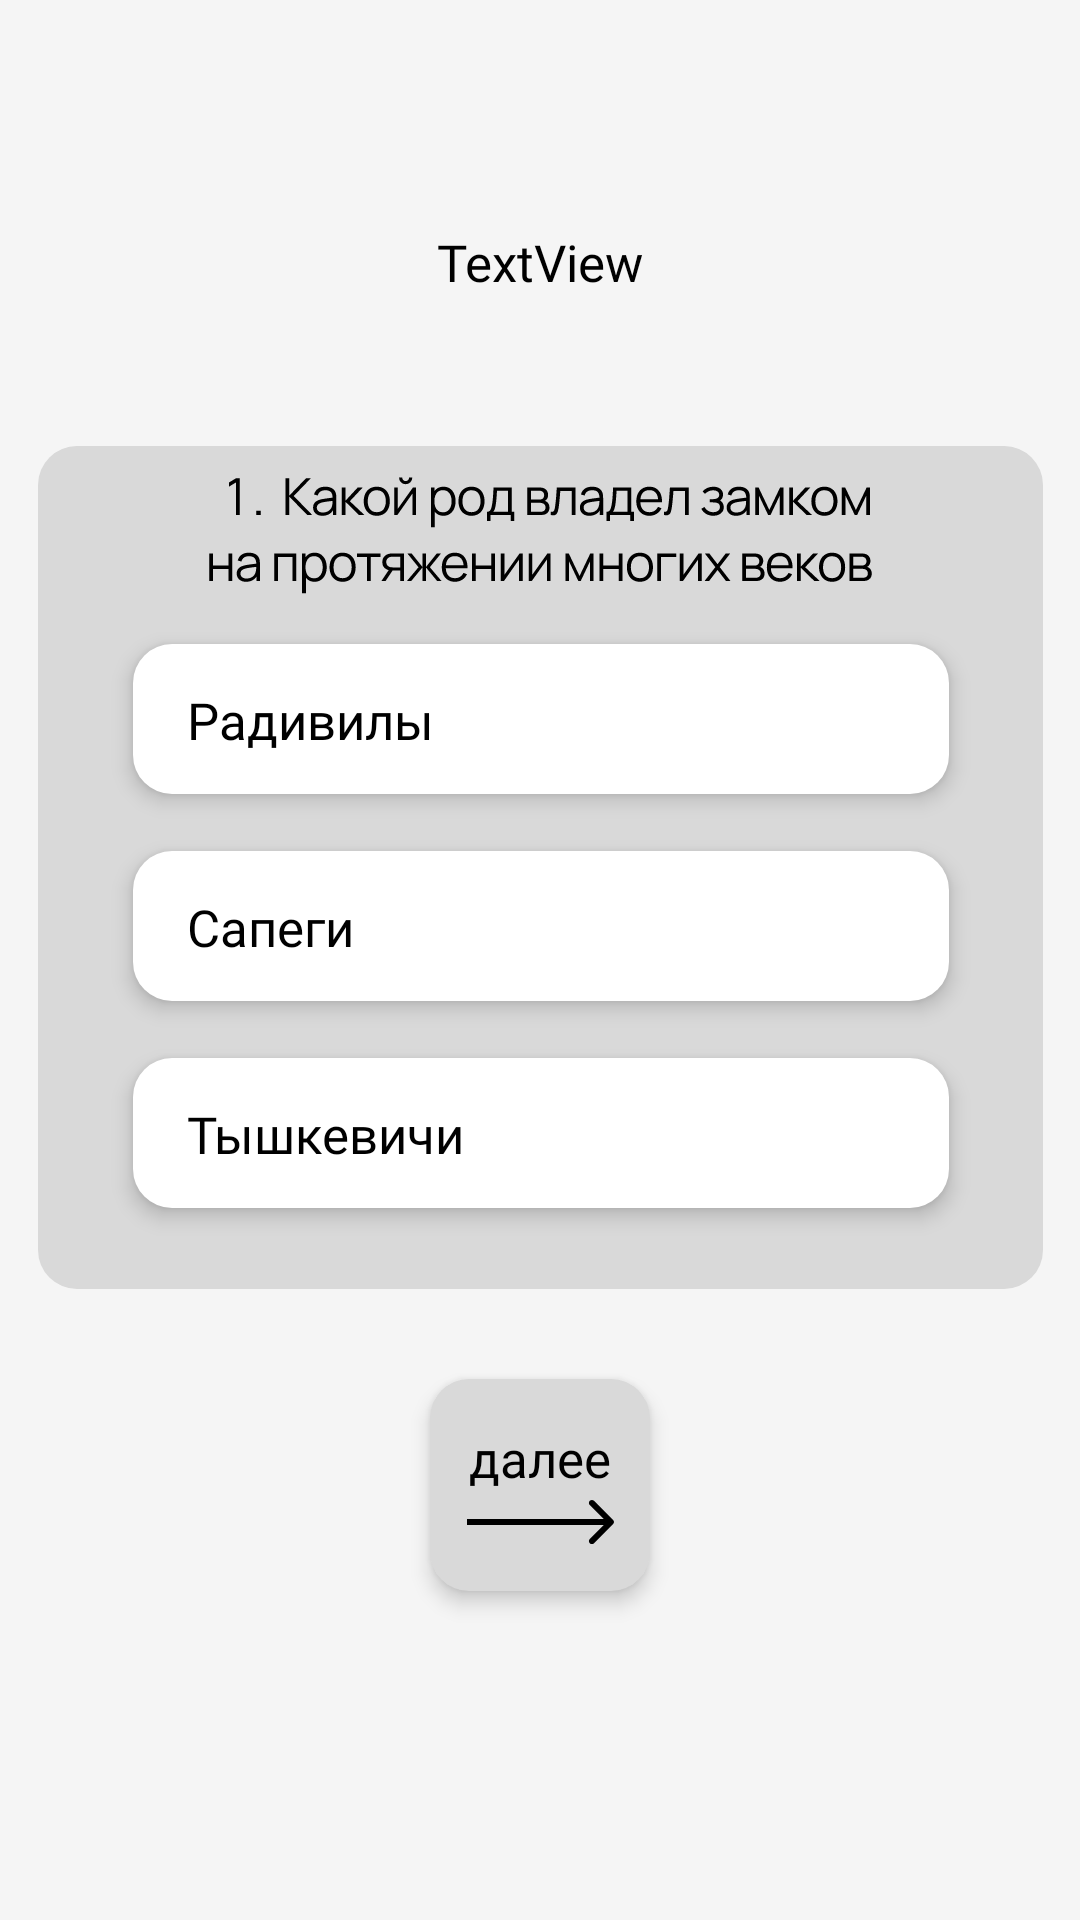

Screen size 1080 × 1920. Icon name, then its center in pixels as (x=x, y=y):
arrow: (x=540, y=1522)
